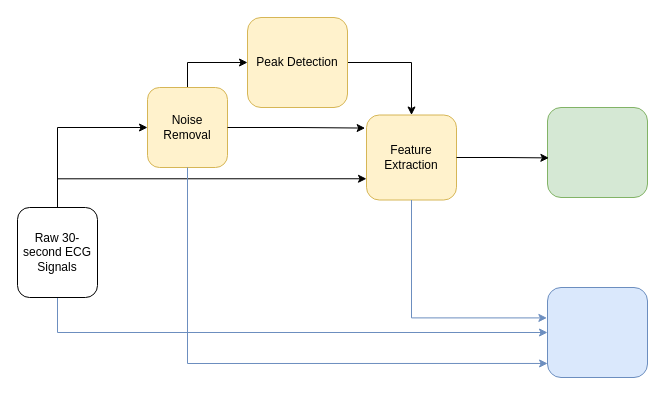
This 665x395 diagram has some shape labels left out. Here are the shapes that lost their labels. From the top down, the centre of each, then its label:
point (597, 152): Classic Machine-Learning Classifier
point (597, 332): Deep-Learning Classifier
